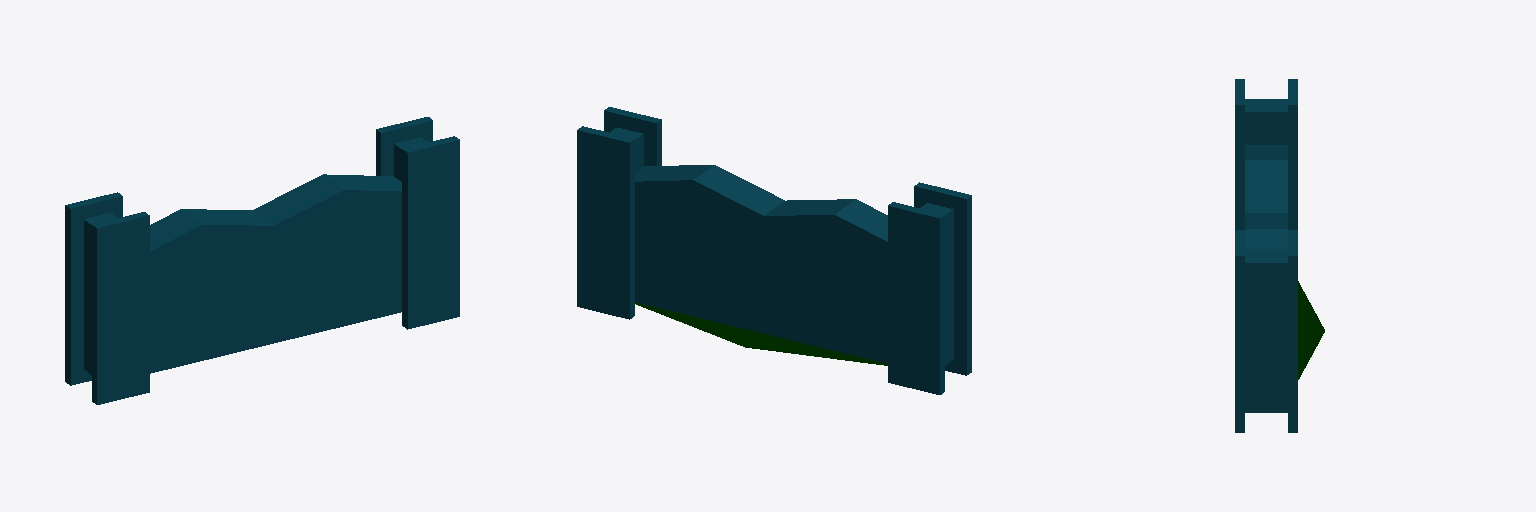
Rendered from generic_object_wall2.obj.
3 renders of one model, left to right at view 1: azimuth 30°, elevation 25°; view 2: azimuth 150°, elevation 25°; view 3: azimuth 270°, elevation 25°, orthographic.
Visible parts, largest first — view 1: Cube.008; view 2: Cube.008; view 3: Cube.008.
Part boxes in pixels (bbox=[...]): Cube.008: bbox=[65, 117, 459, 404]; Cube.008: bbox=[577, 107, 971, 394]; Cube.008: bbox=[1235, 79, 1324, 432].
Bounding box in the file's own units: 19.66 × 9.16 × 4.26.